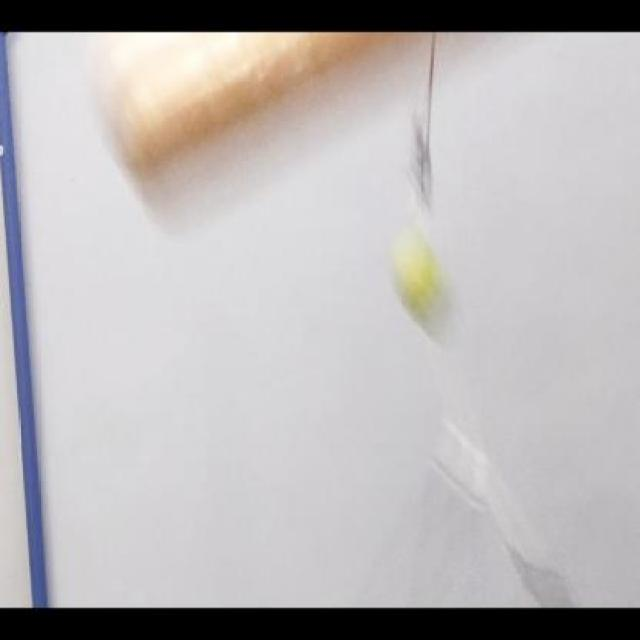baseball: (388, 227, 464, 348)
